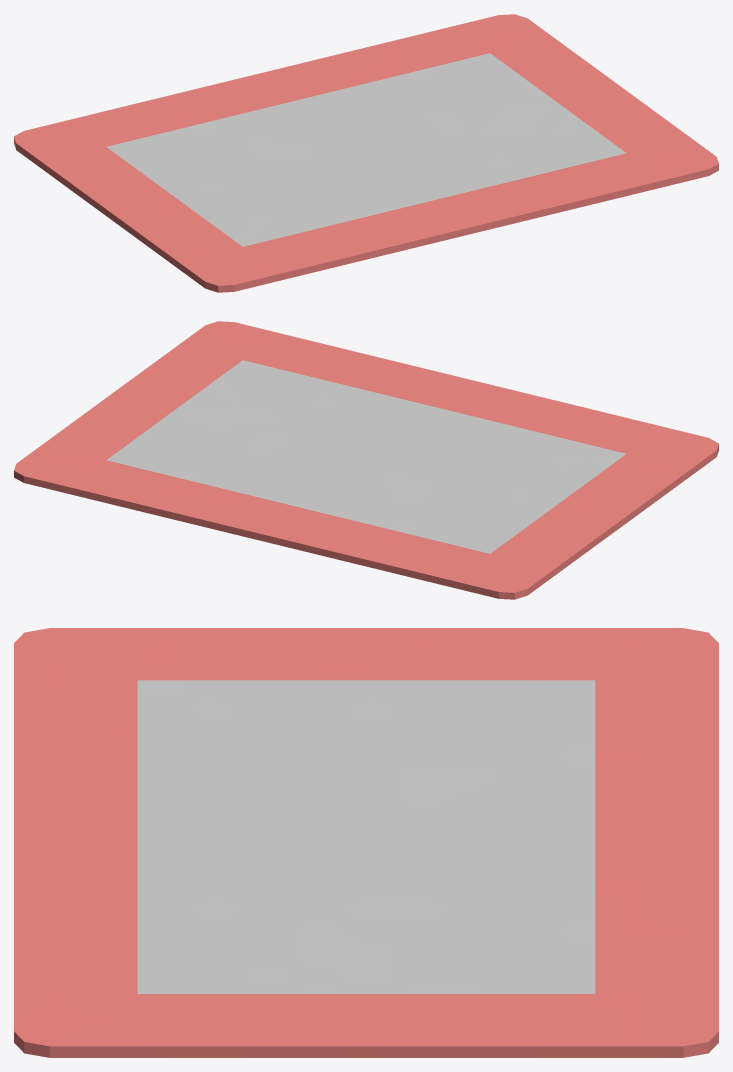
File: Carpet_01_03.fbx
The picture shows the model from 3 angles, top to bottom: view 1: azimuth 30°, elevation 25°; view 2: azimuth 150°, elevation 25°; view 3: azimuth 270°, elevation 25°; orthographic projection. The views are drawn at different scales.
Parts seen in each view (by area): view 1: Carpet_01_03; view 2: Carpet_01_03; view 3: Carpet_01_03.
Boxes of the visible parts, <box> form: Carpet_01_03: <box>14,14,718,292</box>; Carpet_01_03: <box>14,321,718,599</box>; Carpet_01_03: <box>14,628,718,1057</box>.
Size of the model in its own units: 1.56 by 0.0201 by 1.11.
